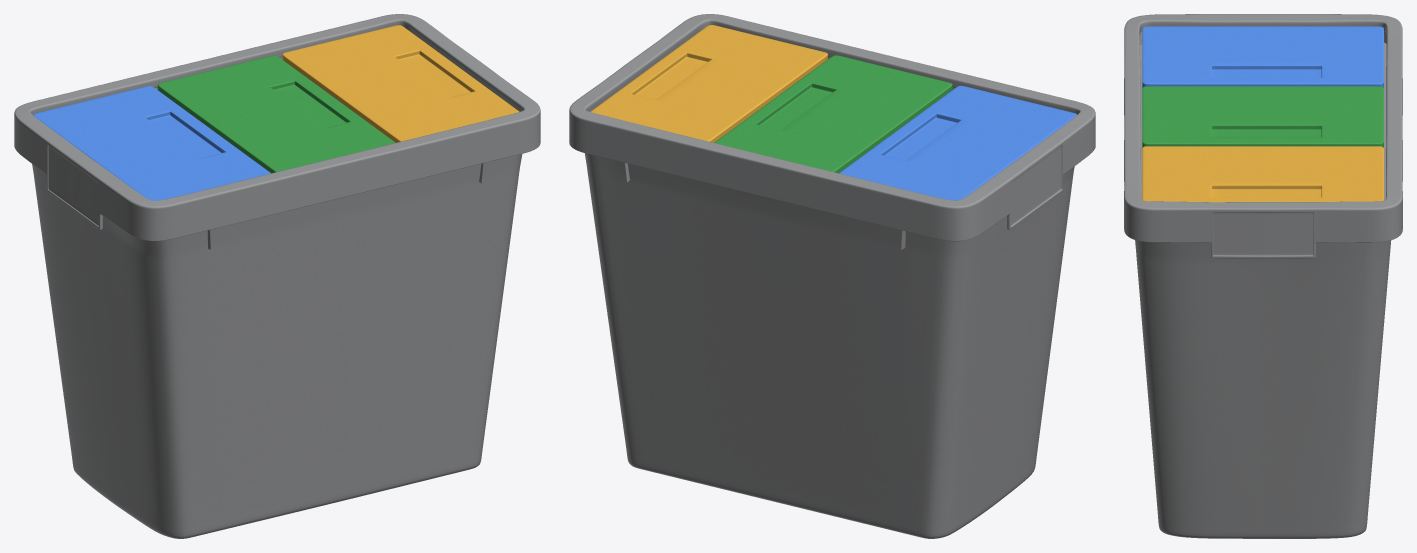
The model's file is Mattiussi Ecologia Polymax Waste Bin_Glb.glb.
3 views of the same model, side by side, from view 1: azimuth 30°, elevation 25°; view 2: azimuth 150°, elevation 25°; view 3: azimuth 270°, elevation 25° (orthographic).
Parts seen in each view (by area): view 1: Object001, Mattiussi-Ecologia-Polymax Waste-Bin-plastic_04, Mattiussi-Ecologia-Polymax Waste-Bin-clear-plastic_005, Mattiussi-Ecologia-Polymax Waste-Bin-clear-plastic_006, Mattiussi-Ecologia-Polymax Waste-Bin-clear-plastic_01; view 2: Object001, Mattiussi-Ecologia-Polymax Waste-Bin-plastic_04, Mattiussi-Ecologia-Polymax Waste-Bin-clear-plastic_005, Mattiussi-Ecologia-Polymax Waste-Bin-clear-plastic_006, Mattiussi-Ecologia-Polymax Waste-Bin-clear-plastic_01; view 3: Object001, Mattiussi-Ecologia-Polymax Waste-Bin-plastic_04, Mattiussi-Ecologia-Polymax Waste-Bin-clear-plastic_01, Mattiussi-Ecologia-Polymax Waste-Bin-clear-plastic_005, Mattiussi-Ecologia-Polymax Waste-Bin-clear-plastic_006, Mattiussi-Ecologia-Polymax Waste-Bin-clear-plastic_004.
Boxes of the visible parts, x1,y1,x2,y2 form: Object001: (32, 57, 522, 538); Mattiussi-Ecologia-Polymax Waste-Bin-plastic_04: (14, 14, 540, 241); Mattiussi-Ecologia-Polymax Waste-Bin-clear-plastic_005: (157, 55, 395, 173); Mattiussi-Ecologia-Polymax Waste-Bin-clear-plastic_006: (282, 25, 519, 142); Mattiussi-Ecologia-Polymax Waste-Bin-clear-plastic_01: (33, 86, 270, 200); Object001: (584, 57, 1074, 538); Mattiussi-Ecologia-Polymax Waste-Bin-plastic_04: (569, 14, 1095, 241); Mattiussi-Ecologia-Polymax Waste-Bin-clear-plastic_005: (714, 55, 952, 173); Mattiussi-Ecologia-Polymax Waste-Bin-clear-plastic_006: (590, 25, 827, 142); Mattiussi-Ecologia-Polymax Waste-Bin-clear-plastic_01: (839, 85, 1076, 200); Object001: (1135, 31, 1391, 538); Mattiussi-Ecologia-Polymax Waste-Bin-plastic_04: (1124, 14, 1402, 258); Mattiussi-Ecologia-Polymax Waste-Bin-clear-plastic_01: (1142, 26, 1383, 87); Mattiussi-Ecologia-Polymax Waste-Bin-clear-plastic_005: (1142, 86, 1383, 147); Mattiussi-Ecologia-Polymax Waste-Bin-clear-plastic_006: (1142, 146, 1383, 202); Mattiussi-Ecologia-Polymax Waste-Bin-clear-plastic_004: (1139, 42, 1386, 200).
Size of the model in its own units: 0.509 by 0.427 by 0.3068.
1 material, 1 textured.
